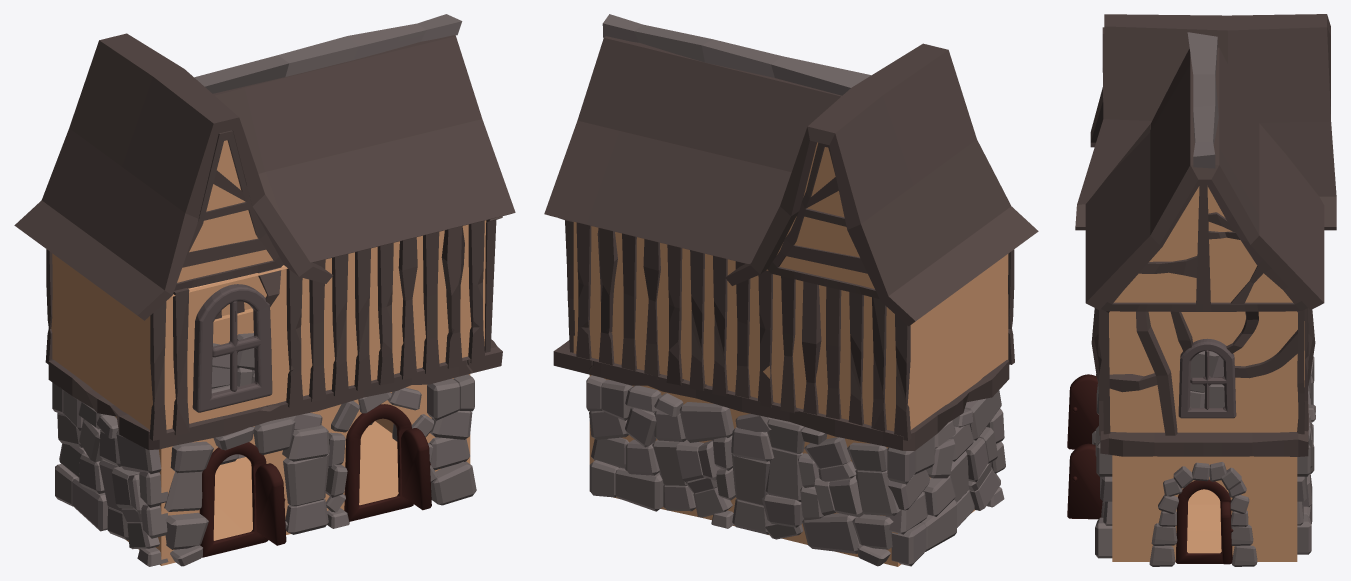
File: gare-eglise (source).glb
The picture shows the model from 3 angles, left to right: view 1: azimuth 30°, elevation 25°; view 2: azimuth 150°, elevation 25°; view 3: azimuth 270°, elevation 25°; orthographic projection. The views are drawn at different scales.
Visible parts, largest first — view 1: Roof.006, Building_1, Roof.003, Wood Frame.004, Side Rocks.003, Back Rocks.003, Wood Frame.006, Windows.003_primitive0, Roof.005, Door.003, Wood Frame.003, Door.004 (+1 smaller); view 2: Roof.006, Roof.003, Side Rocks.003, Building_1, Wood Frame.004, Back Rocks.003, Wood Frame.006, Roof.005, Wood Frame.003, Wood Frame.005; view 3: Building_1, Roof.006, Roof.003, Wood Frame.005, Wood Frame.006, Front Rocks.001, Side Rocks.003, Roof.005, Windows.004_primitive0, Door.005, Door.003, Door.004 (+2 smaller).
Boxes of the visible parts, x1,y1,x2,y2 form: Roof.006: (213,35,515,262); Building_1: (51,140,486,565); Roof.003: (14,33,333,320); Wood Frame.004: (45,220,485,440); Side Rocks.003: (164,333,476,566); Back Rocks.003: (52,382,168,566); Wood Frame.006: (48,339,502,449); Windows.003_primitive0: (192,284,272,412); Roof.005: (194,14,462,93); Door.003: (344,404,431,521); Wood Frame.003: (174,130,283,306); Door.004: (199,442,286,557); Roof.006: (544,36,841,263); Roof.003: (725,43,1038,326); Side Rocks.003: (586,375,900,566); Building_1: (573,142,1008,566); Wood Frame.004: (576,222,1014,440); Back Rocks.003: (885,390,1005,566); Wood Frame.006: (553,340,1009,450); Roof.005: (602,14,871,95); Wood Frame.003: (767,142,879,298); Wood Frame.005: (559,218,574,352); Building_1: (1109,186,1304,561); Roof.006: (1085,47,1324,310); Roof.003: (1075,14,1336,230); Wood Frame.005: (1101,179,1307,435); Wood Frame.006: (1100,394,1309,456); Front Rocks.001: (1149,462,1257,566); Side Rocks.003: (1092,356,1315,558); Roof.005: (1187,32,1218,168); Windows.004_primitive0: (1178,338,1236,418); Door.005: (1175,479,1233,564); Door.003: (1067,443,1102,519); Door.004: (1067,374,1098,449).
Bounding box in the file's own units: 52.27 × 57.92 × 33.09.
